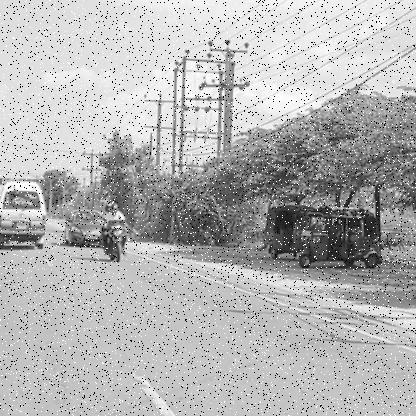motorcycle: (97, 219, 129, 264)
